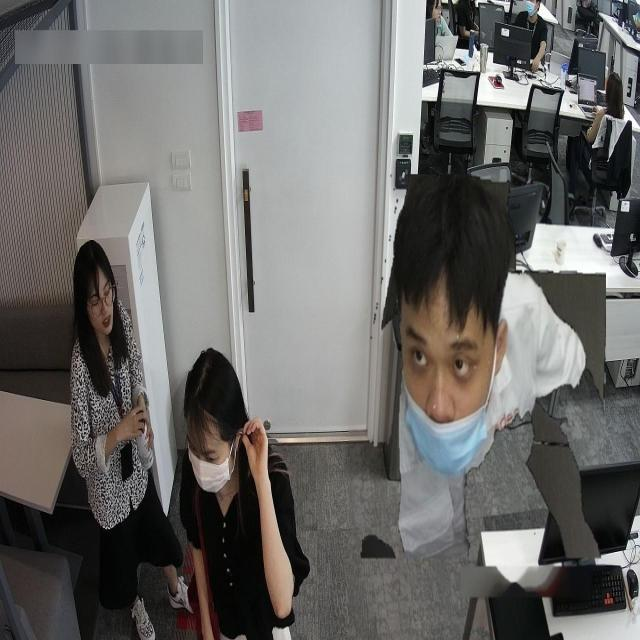hairnet: (402, 318, 492, 470)
